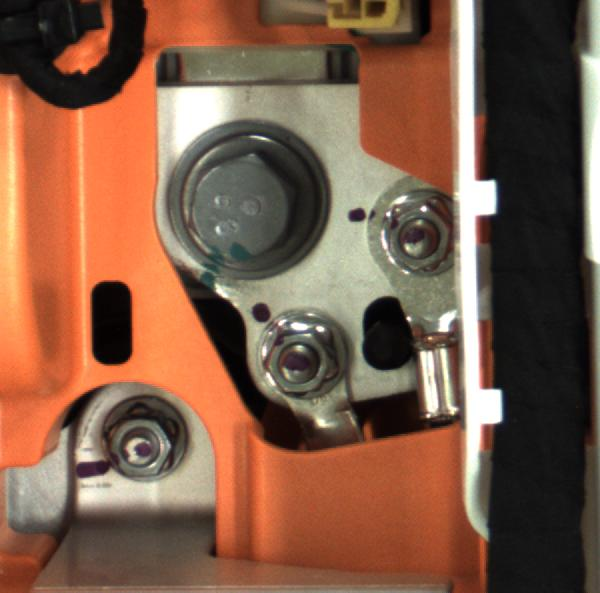nut_b: (157, 129, 334, 283)
screw_s: (92, 392, 202, 497), (246, 305, 354, 400), (381, 185, 466, 281)
